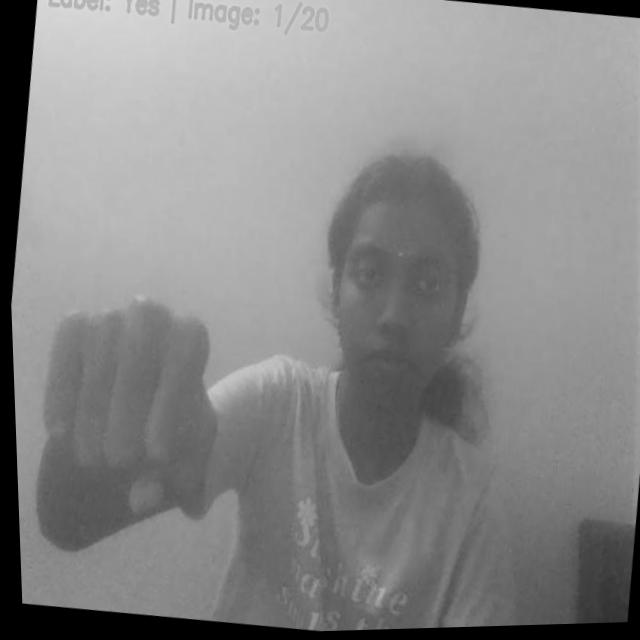Yes: (14, 284, 230, 544)
